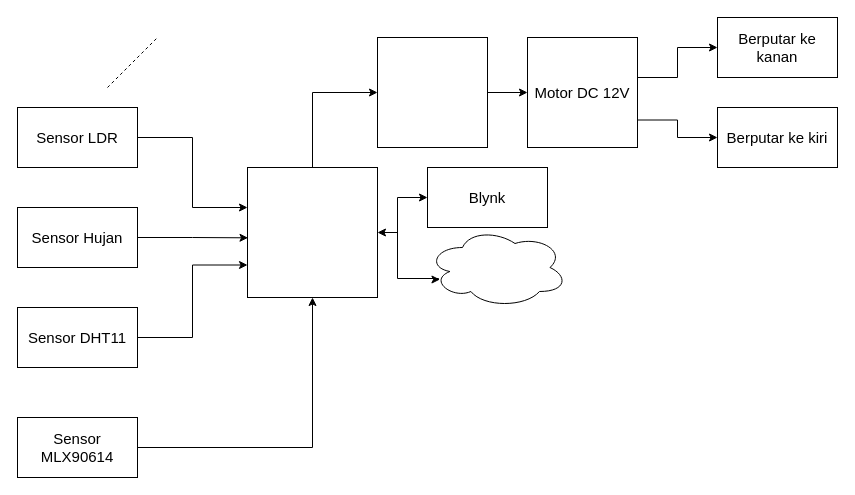
Image size: 855x495. Some labels were removed from this diagram. Here are the shapes that lost their labels. From the top down, the box of each, then its label:
(376, 36, 488, 148): Motor Driver l298n
(246, 166, 378, 298): ESP8266
(426, 226, 568, 308): Jaringan Wifi
